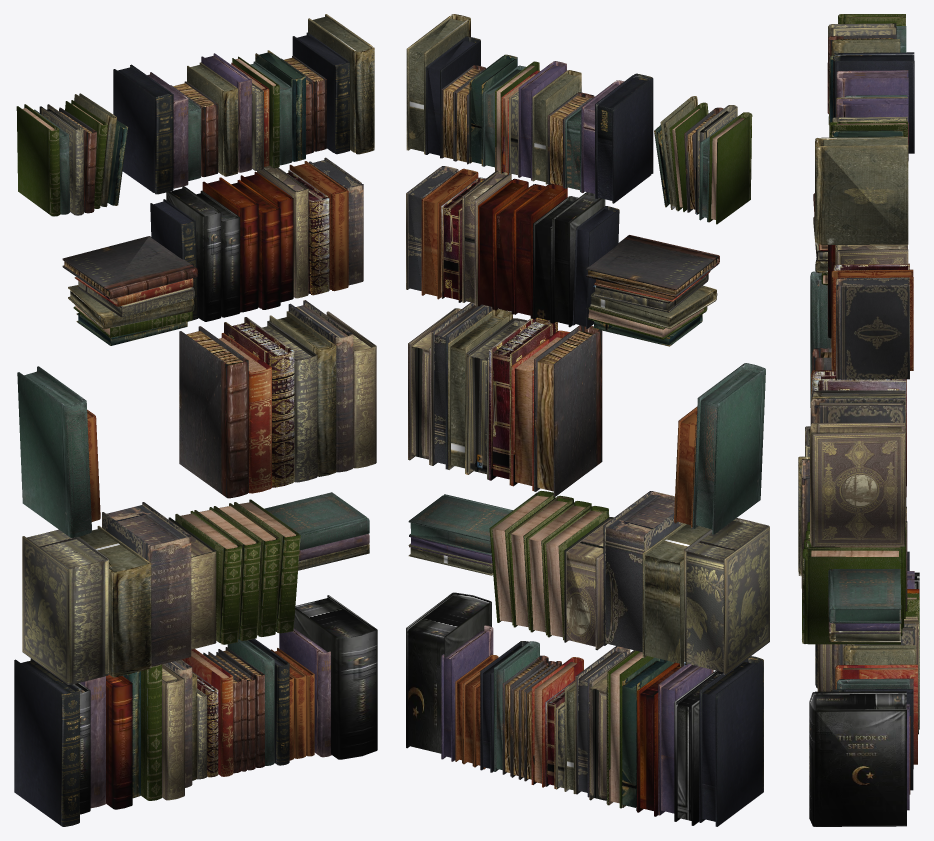
The model's file is books.glb.
3 renders of one model, left to right at view 1: azimuth 30°, elevation 25°; view 2: azimuth 150°, elevation 25°; view 3: azimuth 270°, elevation 25°, orthographic. The views are drawn at different scales.
Visible parts, largest first — view 1: Cube.006 (×15); view 2: Cube.006 (×15); view 3: Cube.006 (×15).
Part boxes in pixels (x1,y1,x2,y2): Cube.006 (×15): [14, 14, 377, 826]; Cube.006 (×15): [406, 14, 769, 826]; Cube.006 (×15): [798, 14, 919, 826].
Bounding box in the file's own units: 0.8827 × 1.89 × 0.3047.
Materials: 15 (15 with a texture image).
